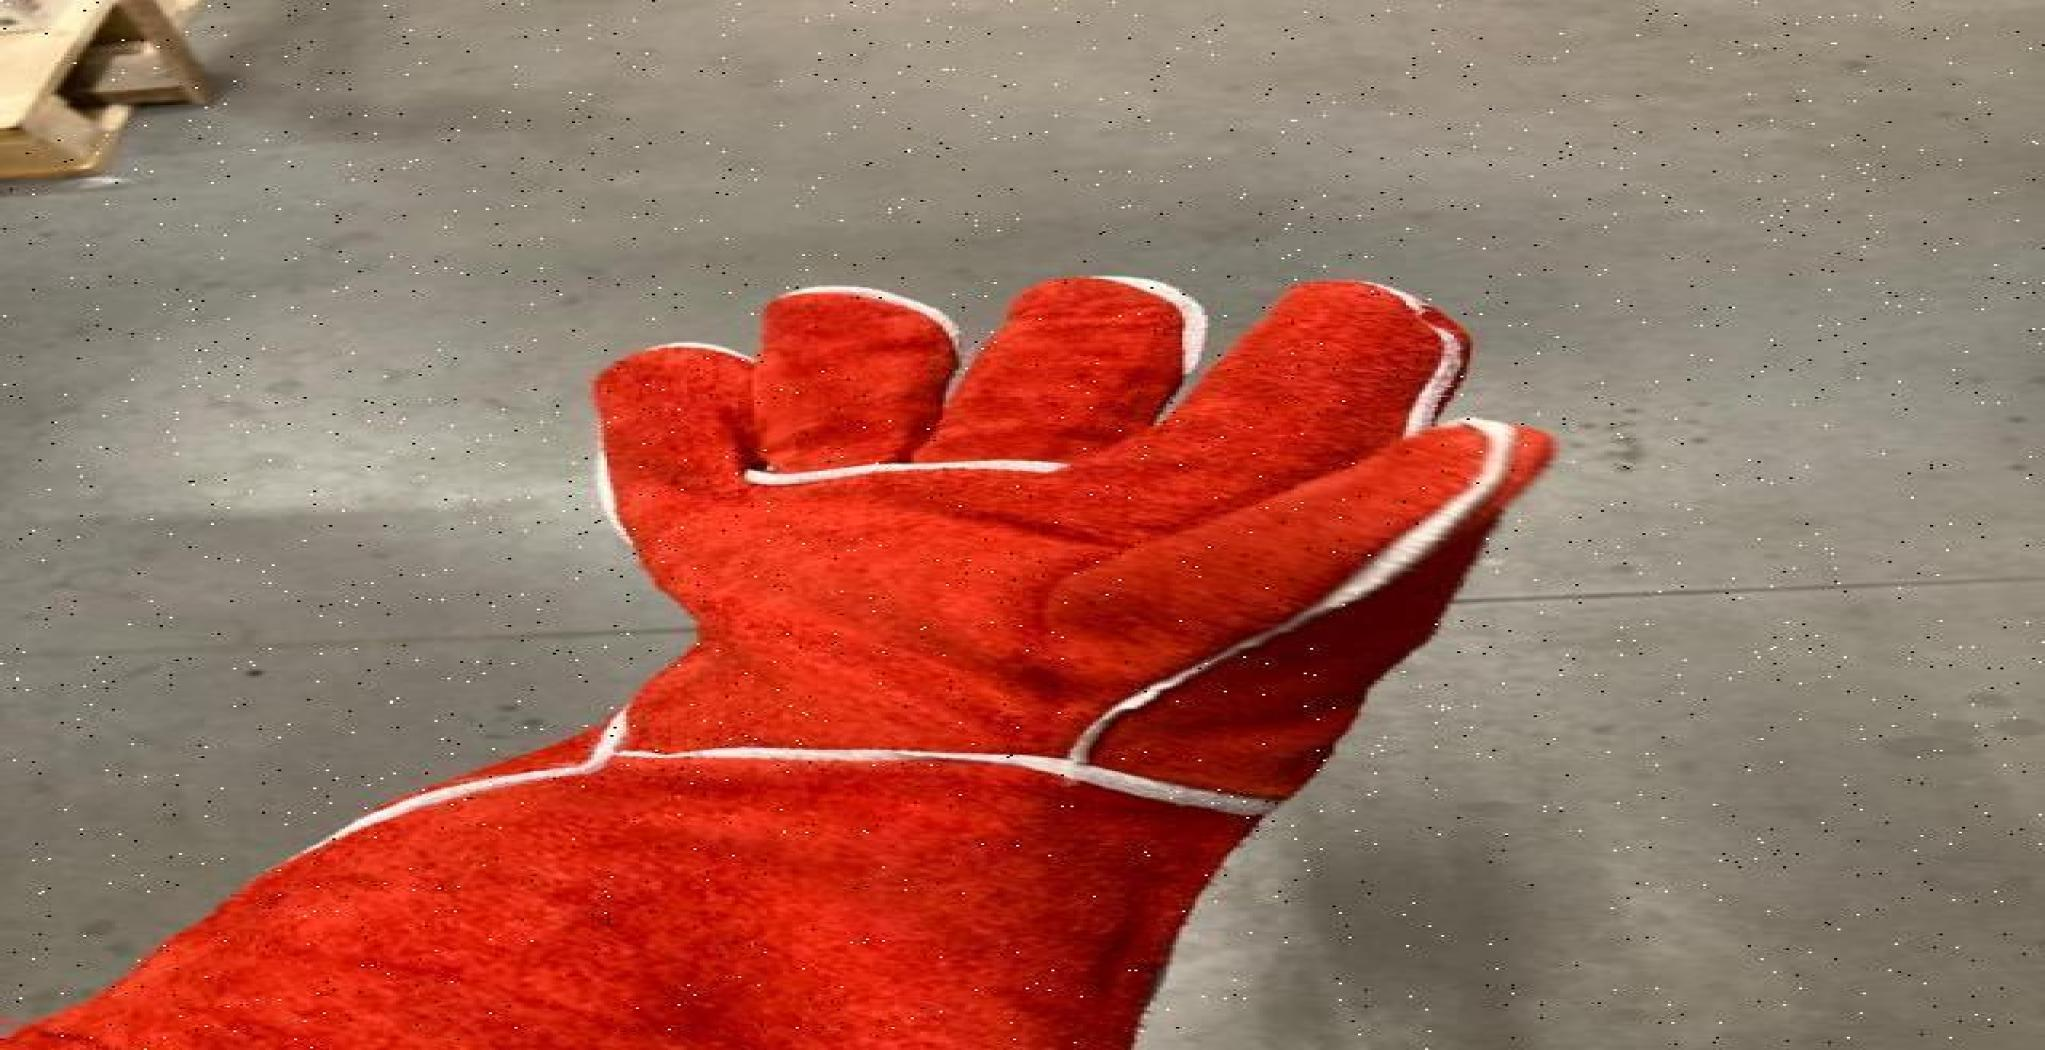gloved: (4, 271, 1559, 1046)
